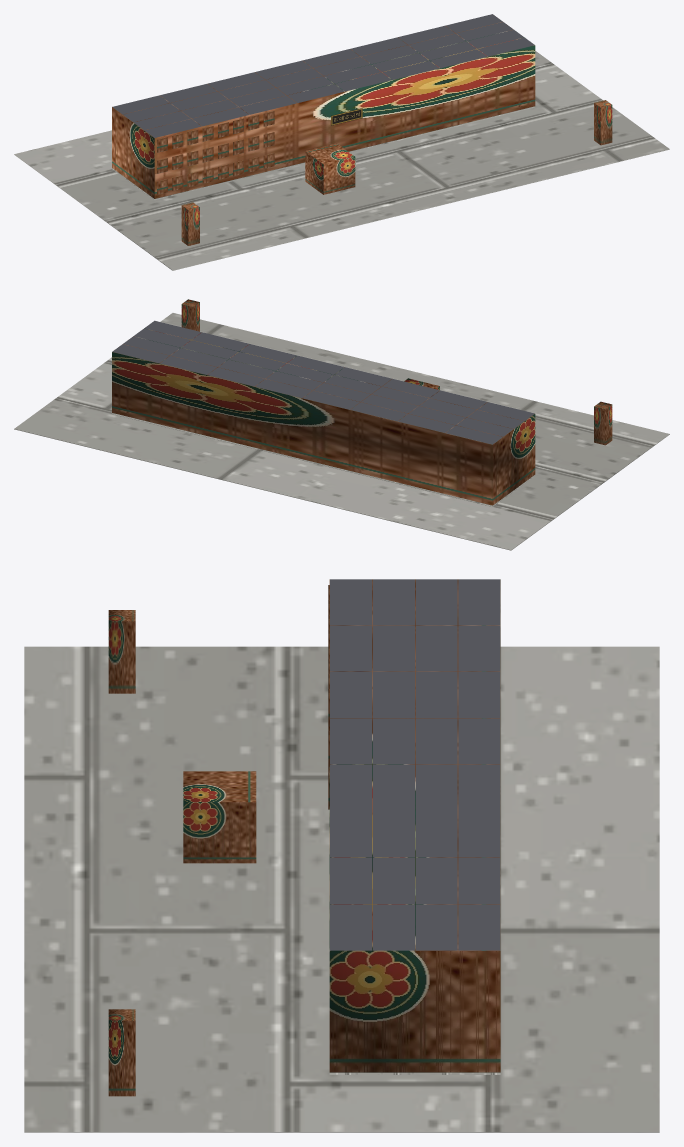
3 views of the same model, one above another, from view 1: azimuth 30°, elevation 25°; view 2: azimuth 150°, elevation 25°; view 3: azimuth 270°, elevation 25° (orthographic). The views are drawn at different scales.
Visible parts, largest first — view 1: 11680_01_06029_013_01_L2__base, 11680_01_06029_013_02_L2__body, 11680_01_06029_013_03_L2__roof, 11680_01_06029_013_05_L2__openings, 11680_01_06029_013_06_L2__green; view 2: 11680_01_06029_013_01_L2__base, 11680_01_06029_013_02_L2__body, 11680_01_06029_013_03_L2__roof, 11680_01_06029_013_06_L2__green; view 3: 11680_01_06029_013_01_L2__base, 11680_01_06029_013_03_L2__roof, 11680_01_06029_013_02_L2__body, 11680_01_06029_013_06_L2__green.
Boxes of the visible parts, x1,y1,x2,y2 form: 11680_01_06029_013_01_L2__base: (14, 51, 669, 270); 11680_01_06029_013_02_L2__body: (112, 22, 535, 198); 11680_01_06029_013_03_L2__roof: (112, 14, 534, 137); 11680_01_06029_013_05_L2__openings: (157, 111, 274, 194); 11680_01_06029_013_06_L2__green: (181, 100, 612, 245); 11680_01_06029_013_01_L2__base: (14, 313, 669, 550); 11680_01_06029_013_02_L2__body: (112, 328, 535, 505); 11680_01_06029_013_03_L2__roof: (112, 320, 534, 444); 11680_01_06029_013_06_L2__green: (181, 299, 612, 445); 11680_01_06029_013_01_L2__base: (24, 646, 659, 1132); 11680_01_06029_013_03_L2__roof: (330, 579, 500, 950); 11680_01_06029_013_02_L2__body: (183, 579, 500, 1072); 11680_01_06029_013_06_L2__green: (108, 610, 135, 1096).
Bounding box in the file's own units: 94 × 11.32 × 52.
5 materials, 5 textured.
